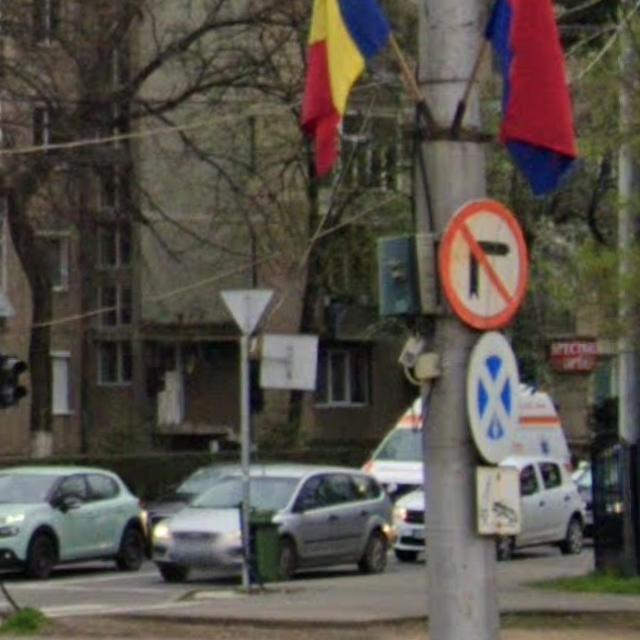forb_waiting: (466, 333, 523, 464)
